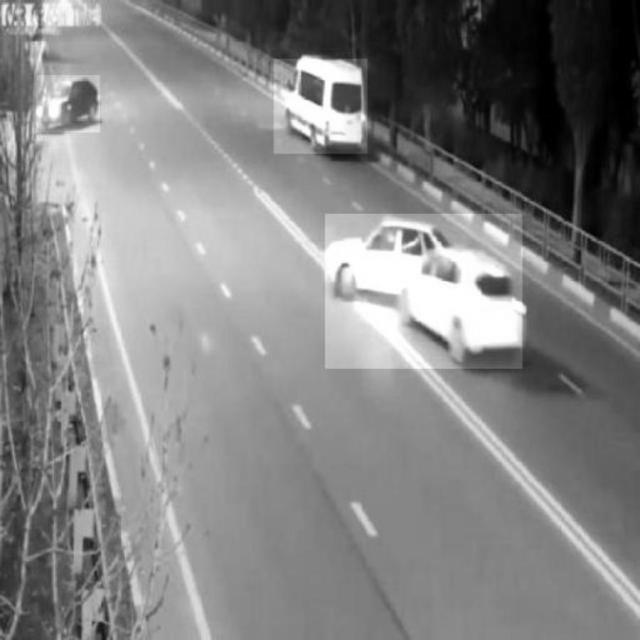accident: (325, 214, 523, 368)
vehicle: (274, 59, 367, 153), (37, 76, 101, 133)
